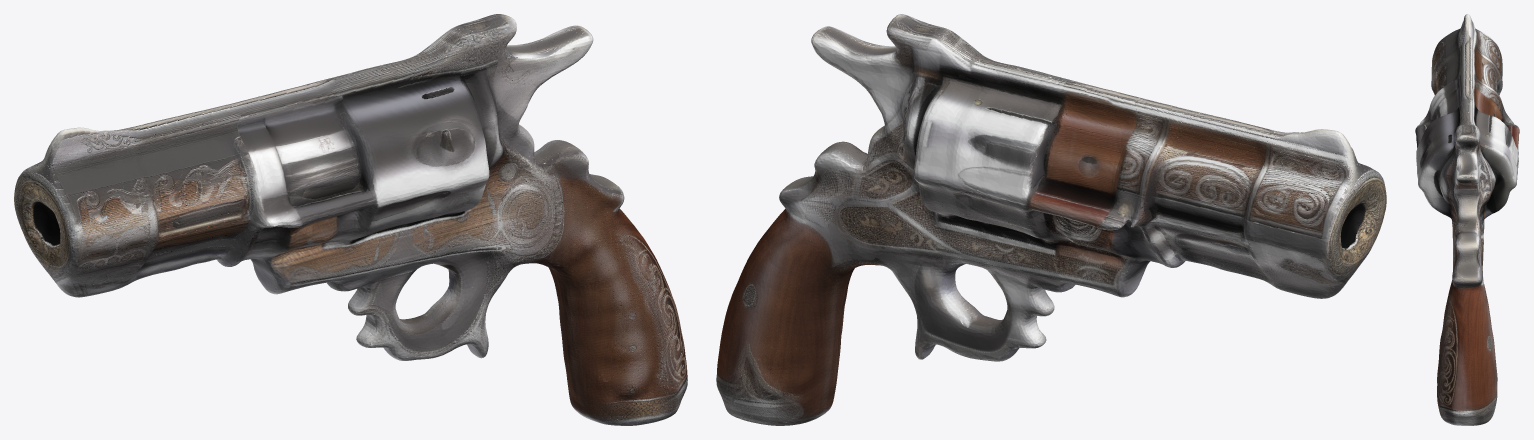
3 views of the same model, side by side, from view 1: azimuth 30°, elevation 25°; view 2: azimuth 150°, elevation 25°; view 3: azimuth 270°, elevation 25° (orthographic). The views are drawn at different scales.
Visible parts, largest first — view 1: Node; view 2: Node; view 3: Node.
Part boxes in pixels (<box>): Node: <box>14,14,687,425</box>; Node: <box>716,14,1386,425</box>; Node: <box>1415,14,1519,425</box>.
Bounding box in the file's own units: 2 × 1.26 × 0.4864.
Materials: 1 (1 with a texture image).
